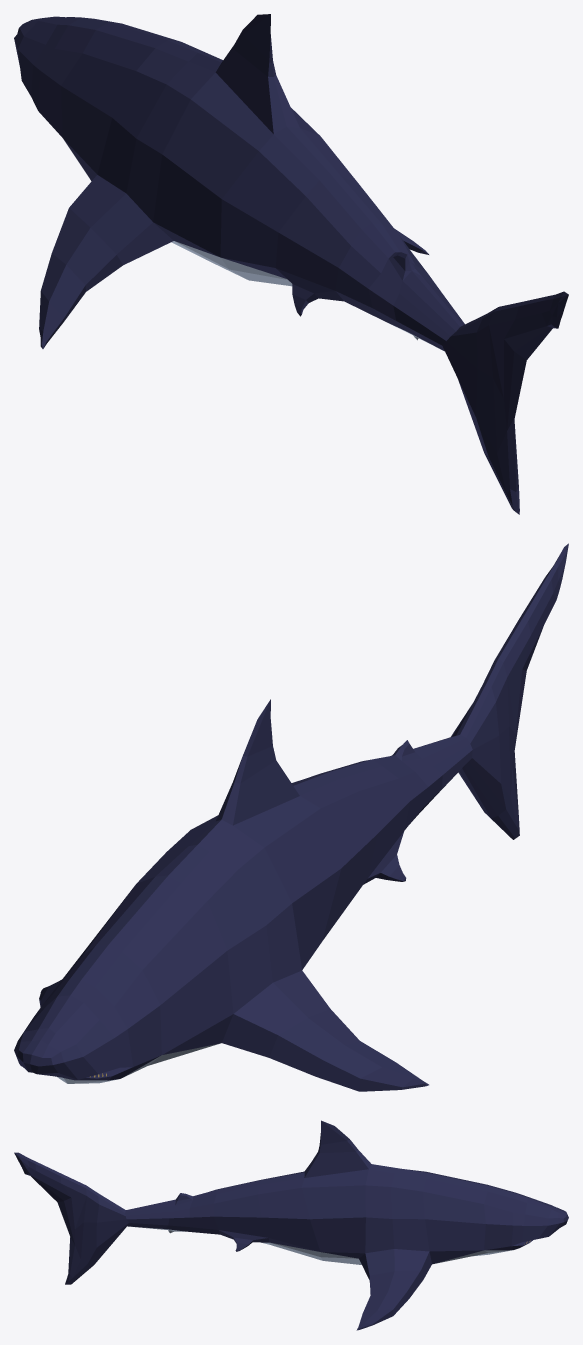
Rendered from Shark.fbx.
3 views of the same model, one above another, from view 1: azimuth 30°, elevation 25°; view 2: azimuth 150°, elevation 25°; view 3: azimuth 270°, elevation 25° (orthographic). The views are drawn at different scales.
Parts seen in each view (by area): view 1: Shark; view 2: Shark; view 3: Shark.
Part boxes in pixels (box(x1,y1,x2,y2)): Shark: box(14, 14, 568, 514); Shark: box(14, 543, 568, 1091); Shark: box(14, 1120, 568, 1330).
Bounding box in the file's own units: 165 × 130 × 397.
